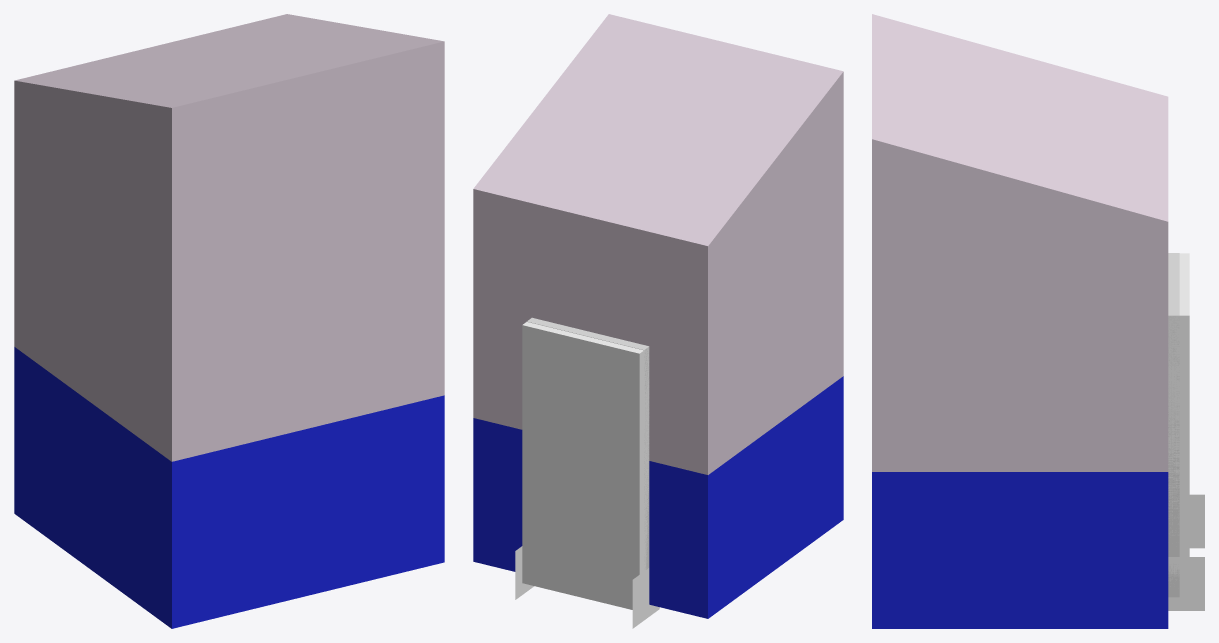
Rendered from Toilet.fbx.
3 views of the same model, side by side, from view 1: azimuth 30°, elevation 25°; view 2: azimuth 150°, elevation 25°; view 3: azimuth 270°, elevation 25° (orthographic). The views are drawn at different scales.
Visible parts, largest first — view 1: Cube, Cube.001; view 2: Cube, Cube.001, CTRL_Hole, CTRL_Baseboard, DoorFrame; view 3: Cube, Cube.001, CTRL_Hole, DoorFrame, CTRL_Baseboard.
Part boxes in pixels (<box>): Cube: <box>14,14,444,461</box>; Cube.001: <box>14,347,444,628</box>; Cube: <box>473,14,843,474</box>; Cube.001: <box>473,376,843,618</box>; CTRL_Hole: <box>522,322,649,609</box>; CTRL_Baseboard: <box>515,546,659,628</box>; DoorFrame: <box>527,317,649,569</box>; Cube: <box>872,14,1168,471</box>; Cube.001: <box>872,472,1168,628</box>; CTRL_Hole: <box>1168,253,1189,597</box>; DoorFrame: <box>1168,253,1179,597</box>; CTRL_Baseboard: <box>1168,494,1204,610</box>.
Bounding box in the file's own units: 200 × 375 × 225.
